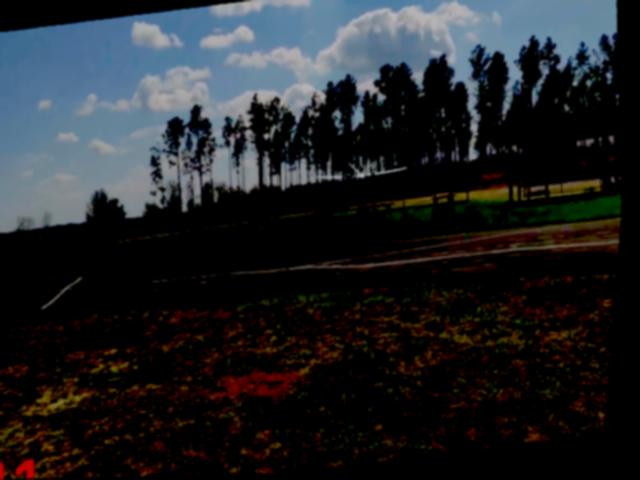plane: (318, 157, 413, 195)
